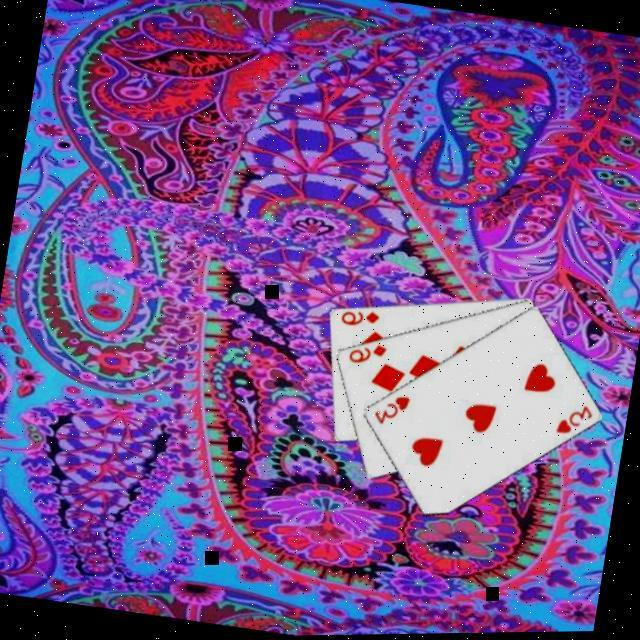3H: (550, 398, 595, 442), (368, 388, 410, 431)
9D: (342, 336, 388, 371), (335, 304, 381, 332)
